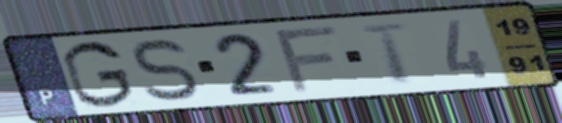2: (214, 30, 289, 100)
4: (443, 18, 491, 81)
F: (270, 22, 343, 96)
G: (58, 38, 138, 110)
S: (130, 36, 203, 104)
T: (356, 21, 418, 87)
